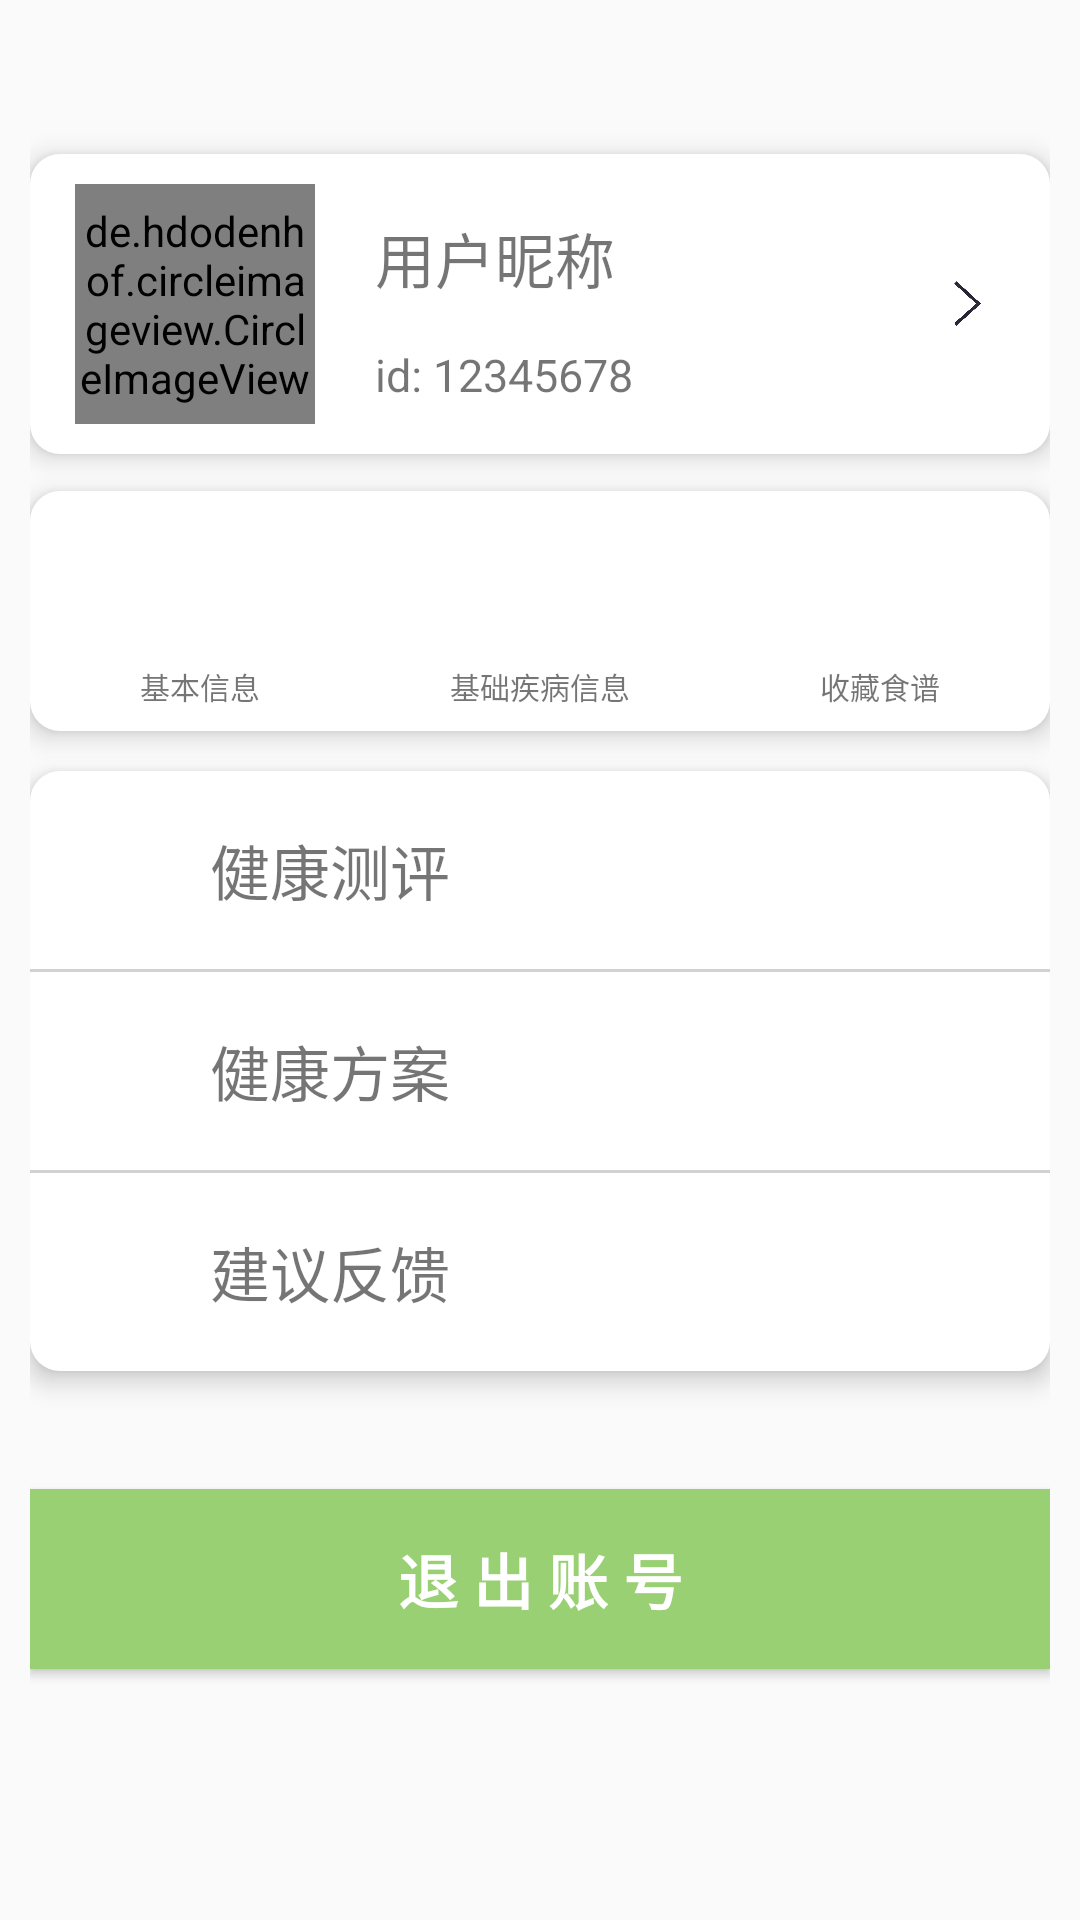

Icon bounding boxes for this 1080px x 1920px phone screenshot, format (x1, y1, x2, y2):
arrow: (954, 281, 981, 326)
